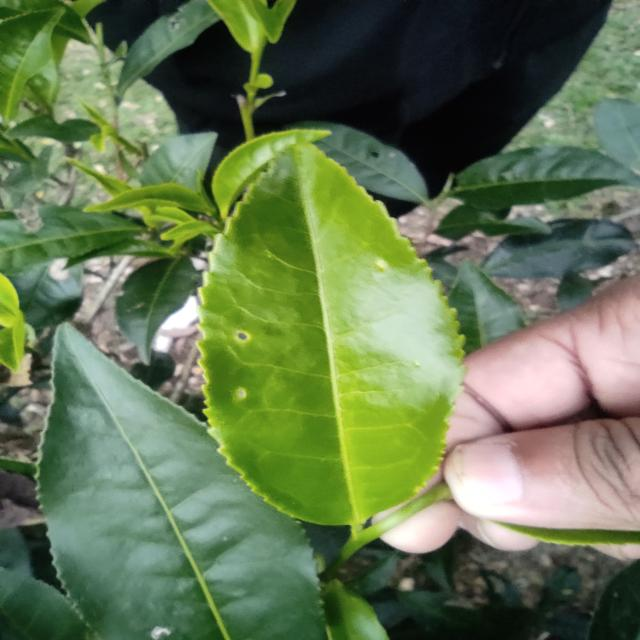Category C 4-7 days: (147, 125, 493, 543)
